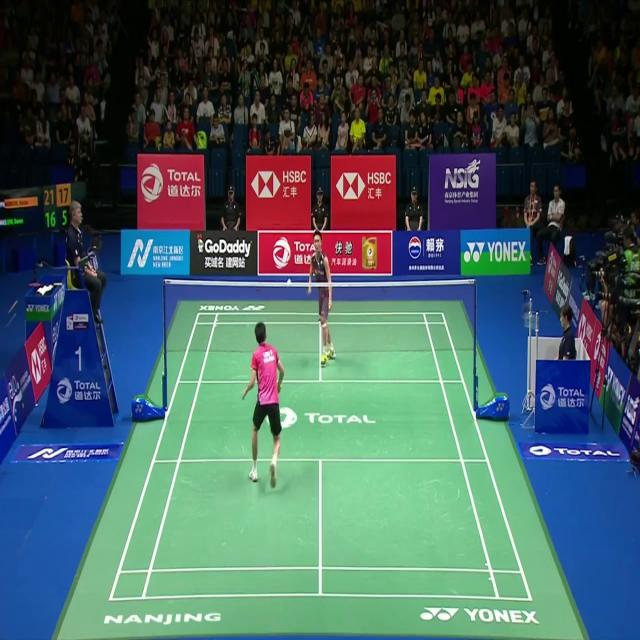Shuttlecock: (286, 275, 292, 287)
